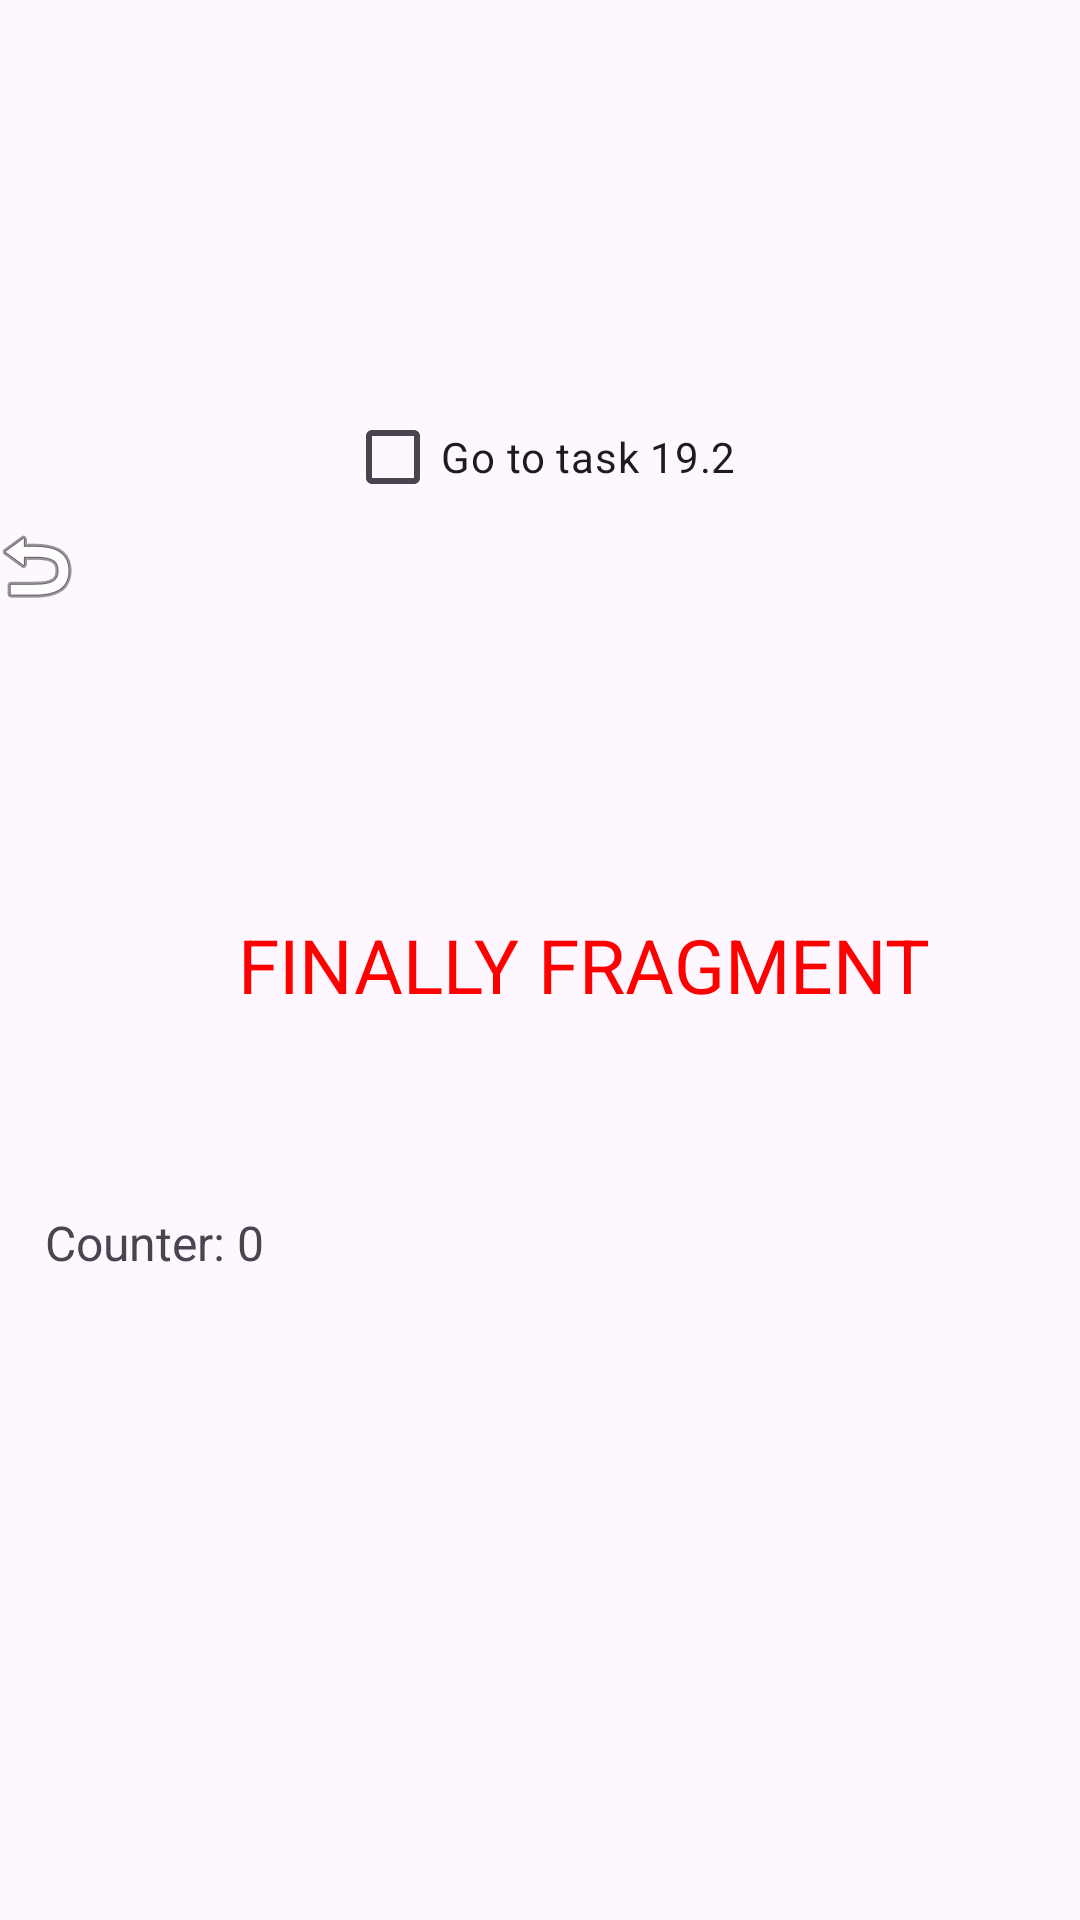

Named icons in this screenshot (1080 x 1920) and their bounding boxes, box(x1, y1, x2, y2):
Назад: box(3, 535, 72, 598)
